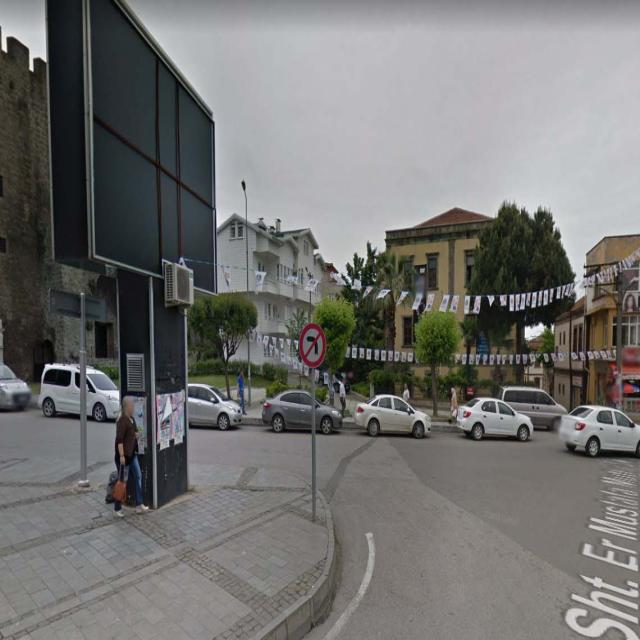soladonulmez: (300, 322, 326, 368)
